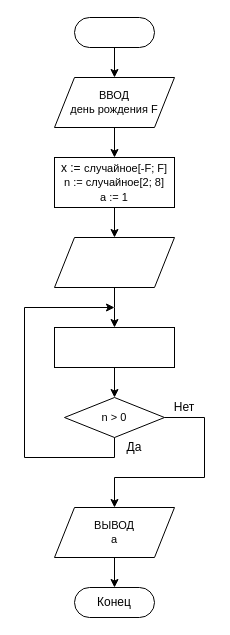
The diagram is 230 pixels wide and 635 high, and some of its shapes have lost their labels. Here are the shapes that lost their labels. From the top down, the centre of each, then its label:
(114,32): Начало
(114,262): ВЫВОД x, n
(114,347): a := a * x n := n - 1
